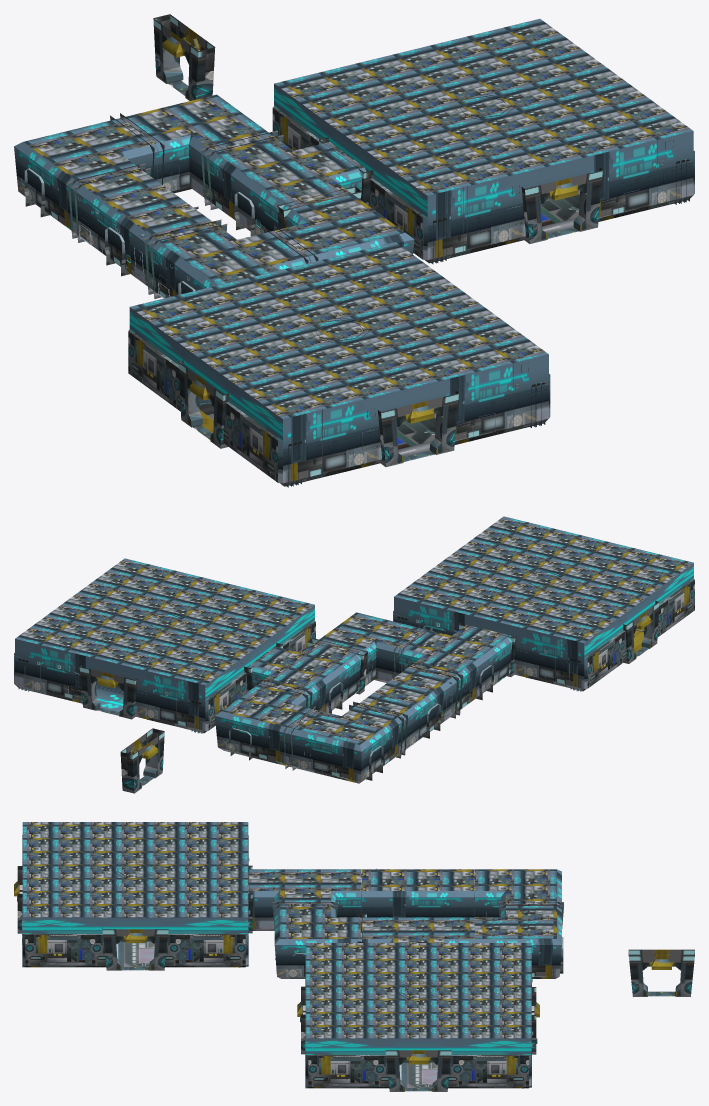
File: Combined_Mesh_root_scene__13_e7023e4f__ZombiesII_laboratory_09_d_715a74b3_c1f257.obj
3 renders of one model, top to bottom at view 1: azimuth 30°, elevation 25°; view 2: azimuth 150°, elevation 25°; view 3: azimuth 270°, elevation 25°, orthographic. The views are drawn at different scales.
Size of the model in its own units: 93.74 by 10.34 by 121.
Materials: 592 (592 with a texture image).
